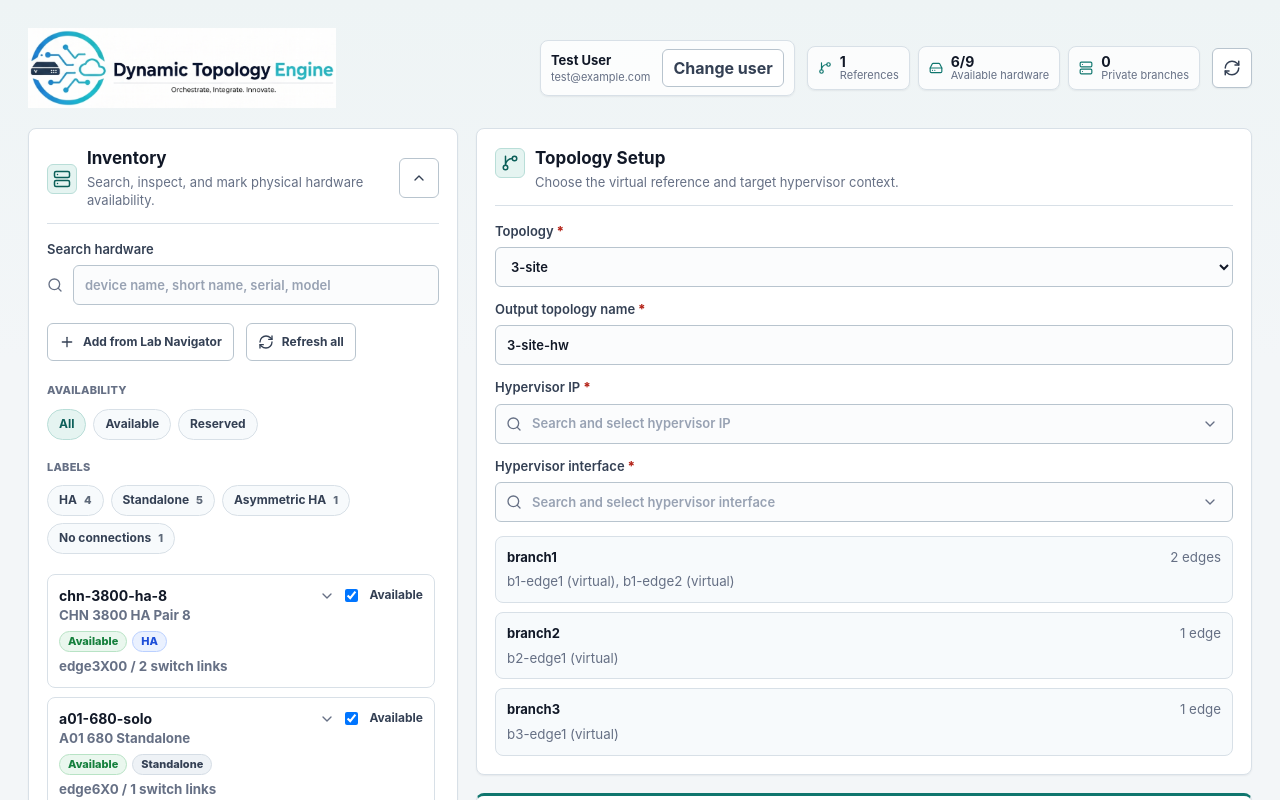
App › selects hypervisor ip from inventory without prefilling an interface
Type "137.162" into the dropdown labelled "Hypervisor IP". click: (861, 424)
box: [532,404,1190,442]
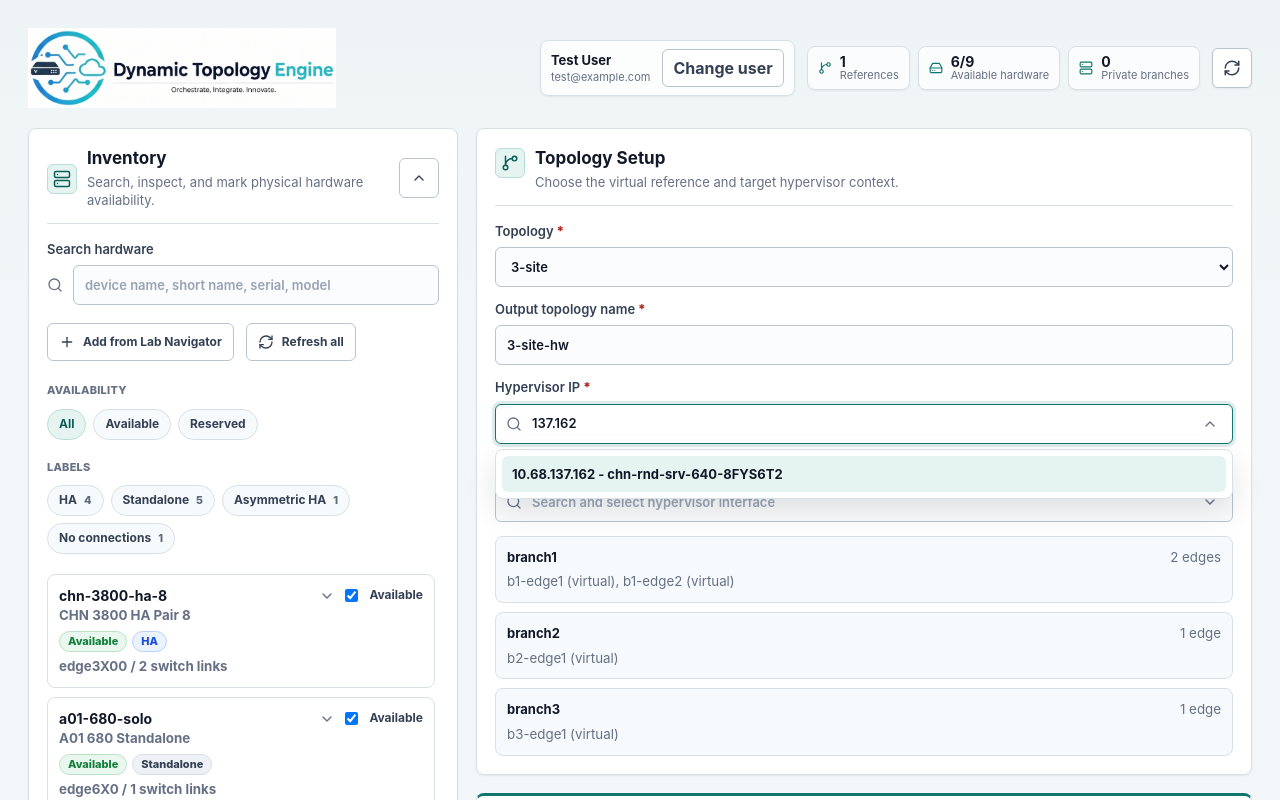
Click the option "10.68.137.162 - chn-rnd-srv-640-8FYS6T2". click: (647, 474)
box: [502,456,1226,492]
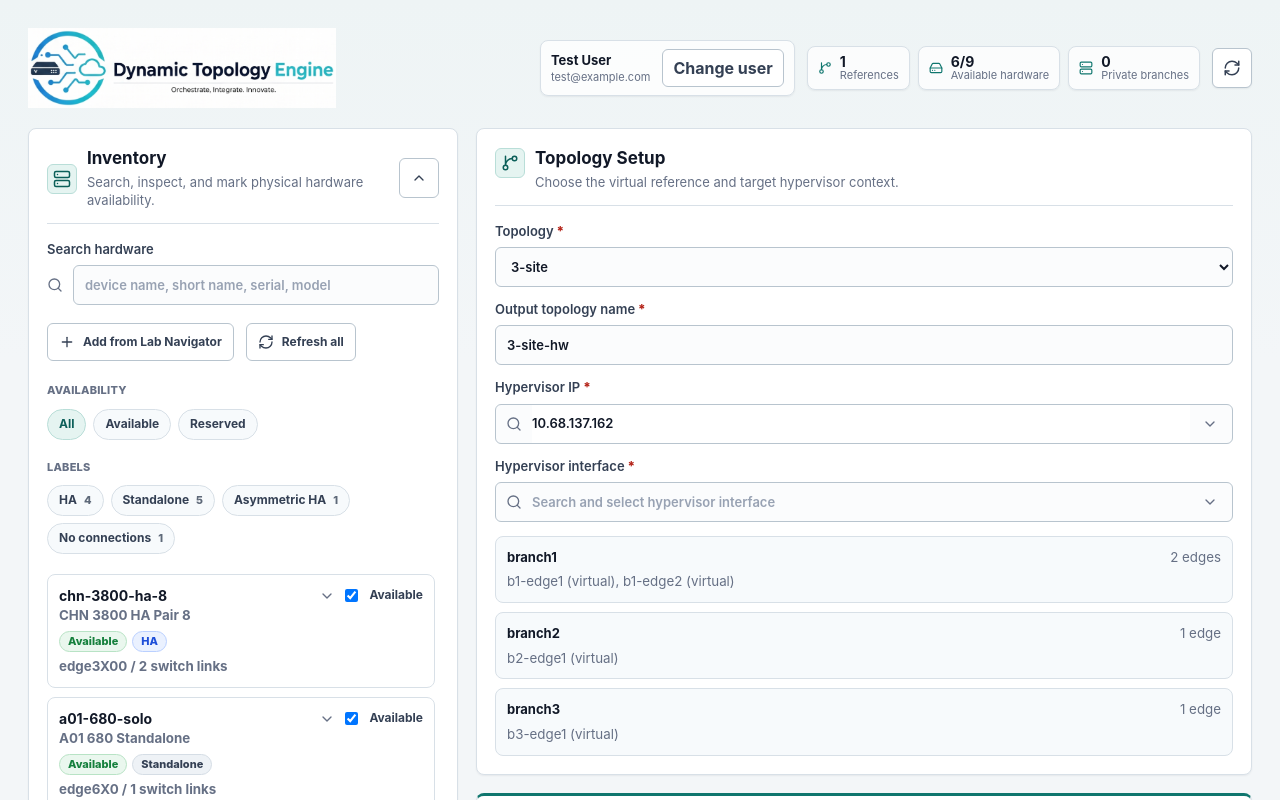
Check: the dropdown labelled "Hypervisor interface" is empty, box [532,483,1190,521]
Check: the dropdown labelled "Hypervisor IP" holds "10.68.137.162", box [532,404,1190,442]
